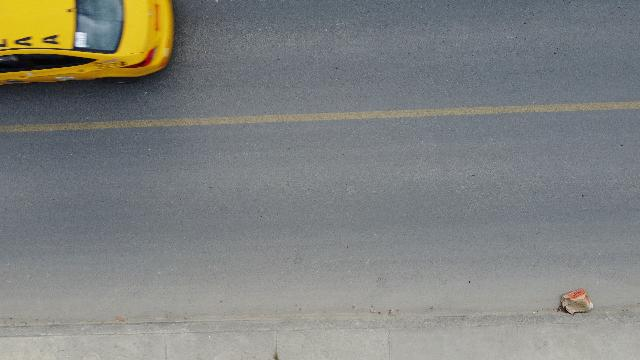Vehiculo: (0, 0, 174, 84)
